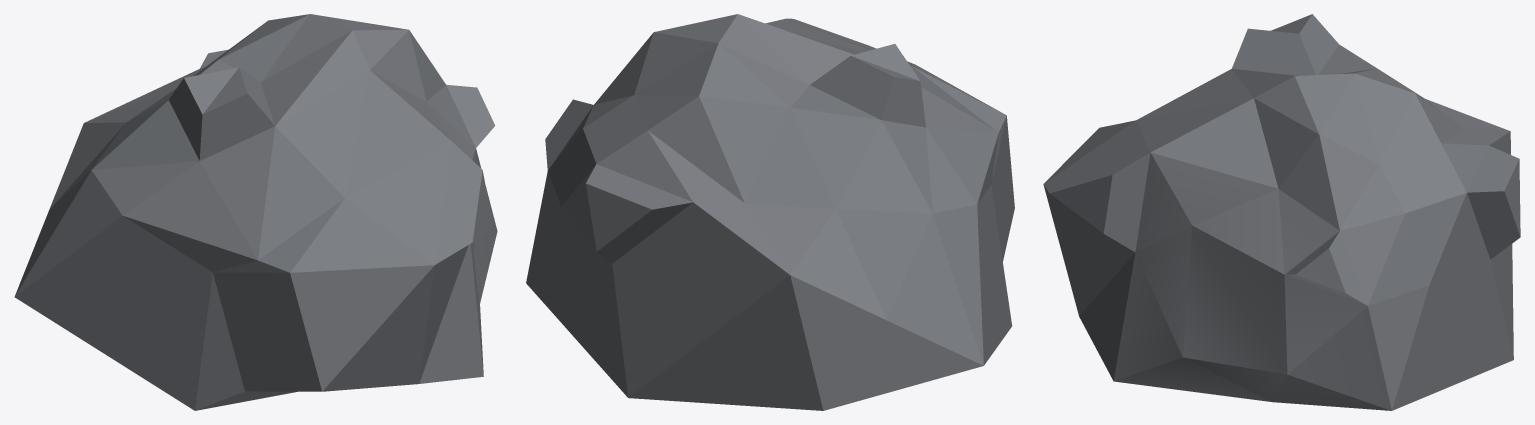
The model's file is Iron3.fbx.
3 views of the same model, side by side, from view 1: azimuth 30°, elevation 25°; view 2: azimuth 150°, elevation 25°; view 3: azimuth 270°, elevation 25° (orthographic). The views are drawn at different scales.
Parts seen in each view (by area): view 1: Rock3; view 2: Rock3; view 3: Rock3.
Boxes of the visible parts, x1,y1,x2,y2 form: Rock3: (14, 14, 497, 410); Rock3: (526, 14, 1014, 410); Rock3: (1043, 14, 1520, 410).
Bounding box in the file's own units: 92.72 × 57.24 × 86.35.
